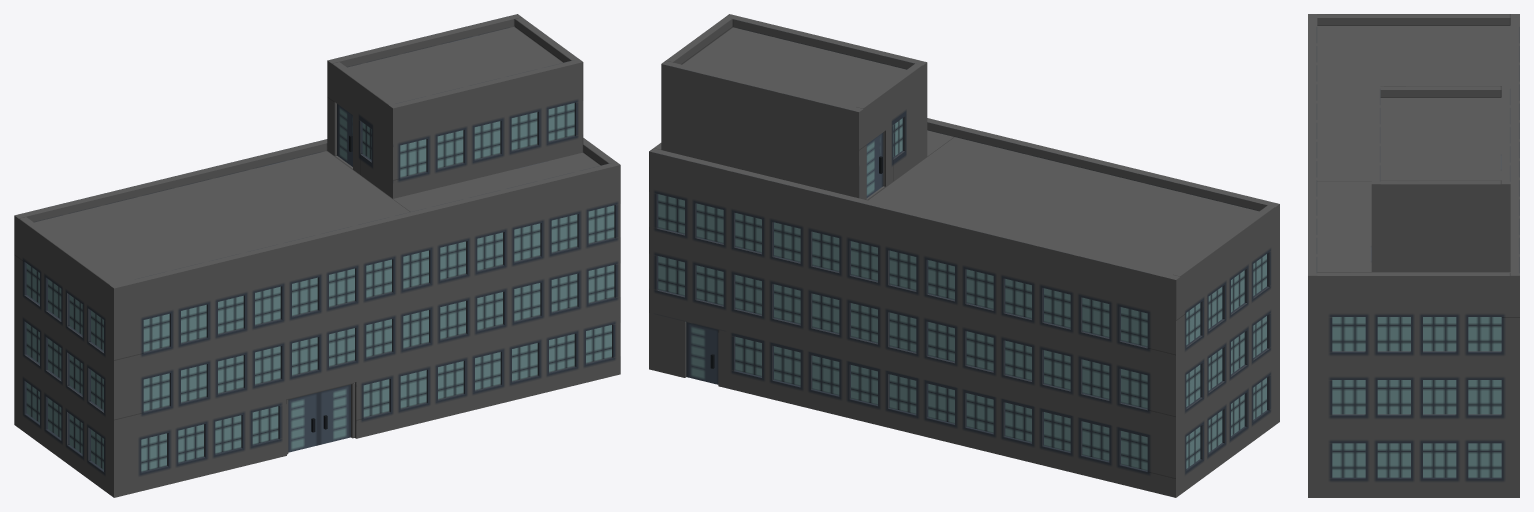
File: Big_long_building.dae
3 views of the same model, side by side, from view 1: azimuth 30°, elevation 25°; view 2: azimuth 150°, elevation 25°; view 3: azimuth 270°, elevation 25° (orthographic). The views are drawn at different scales.
Visible parts, largest first — view 1: Content; view 2: Content; view 3: Content.
Part boxes in pixels (x1,y1,x2,y2): Content: (14,14,620,497); Content: (649,14,1279,497); Content: (1308,14,1519,497).
Bounding box in the file's own units: 205 × 113 × 70.
Materials: 1 (1 with a texture image).
